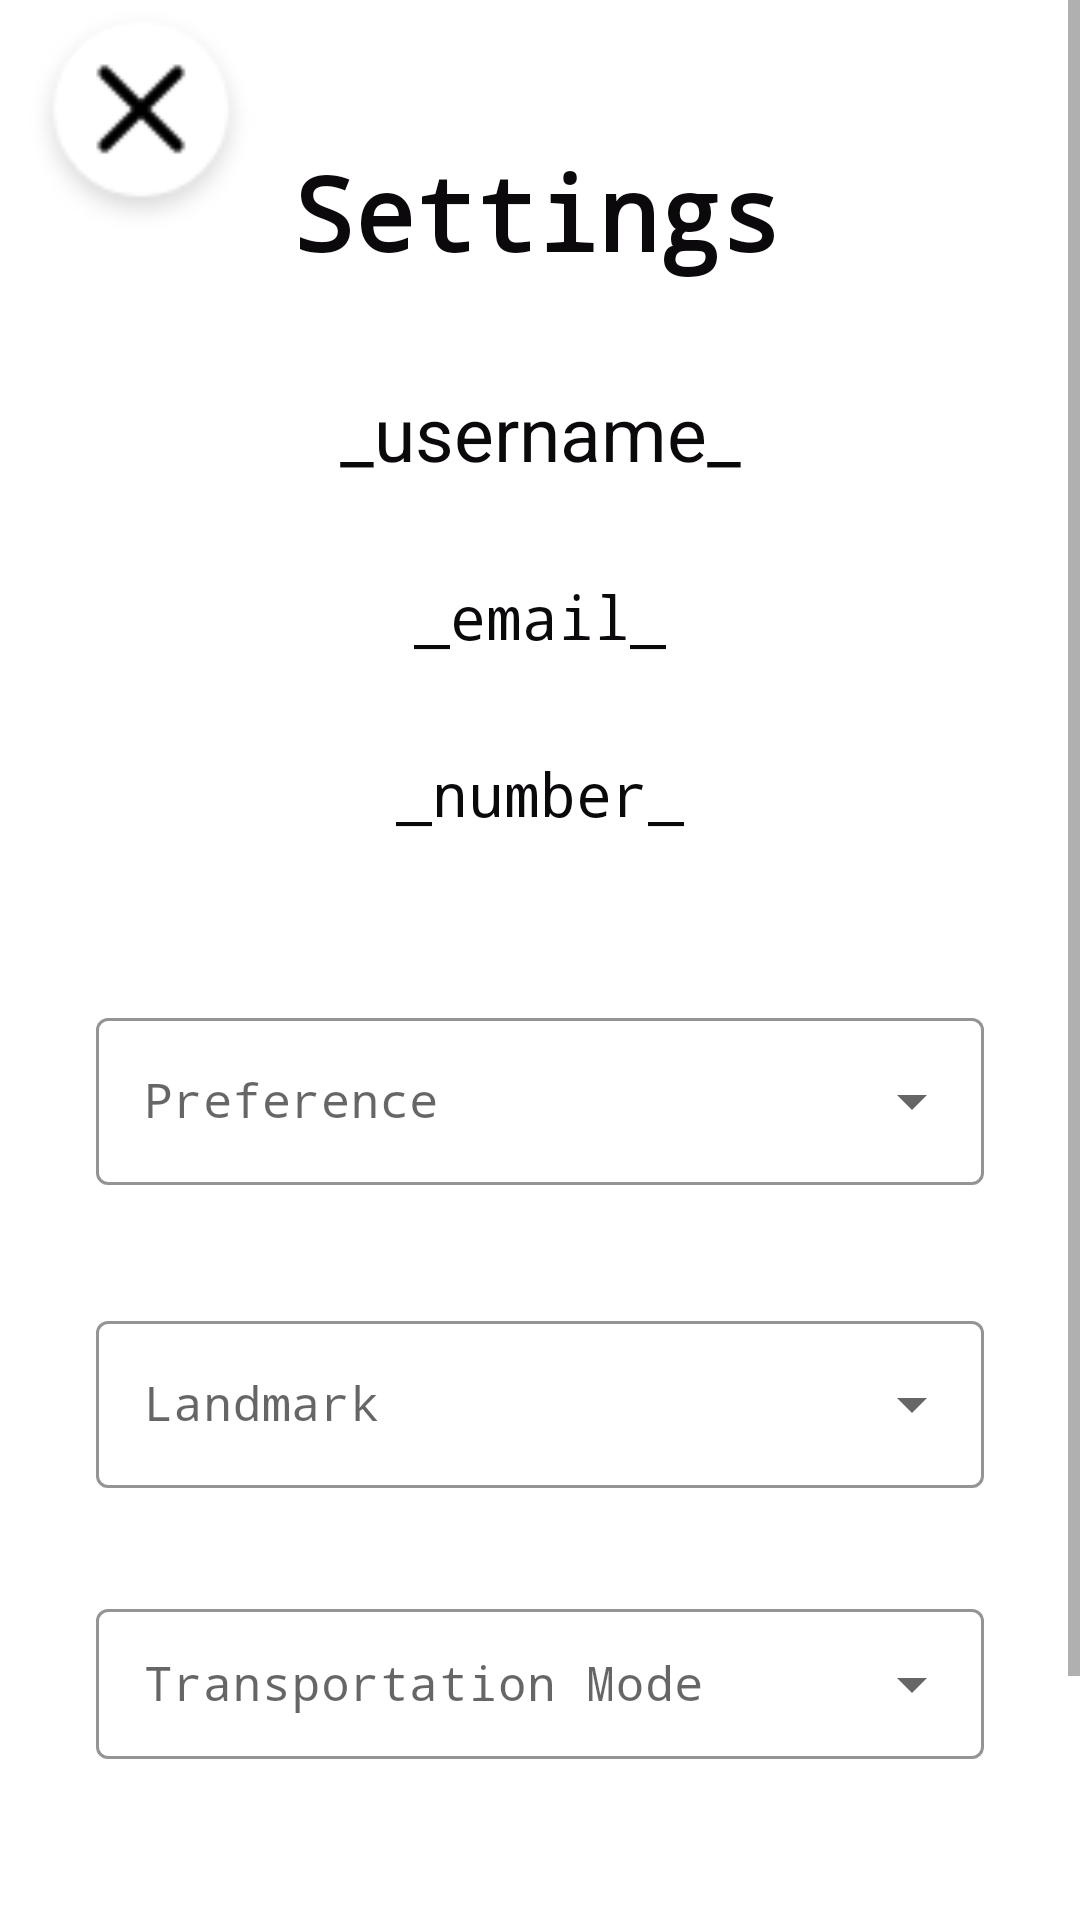

Icon bounding boxes for this 1080px x 1920px phone screenshot, format [x1, y1, x2, y2]:
exit: [80, 64, 209, 203]
